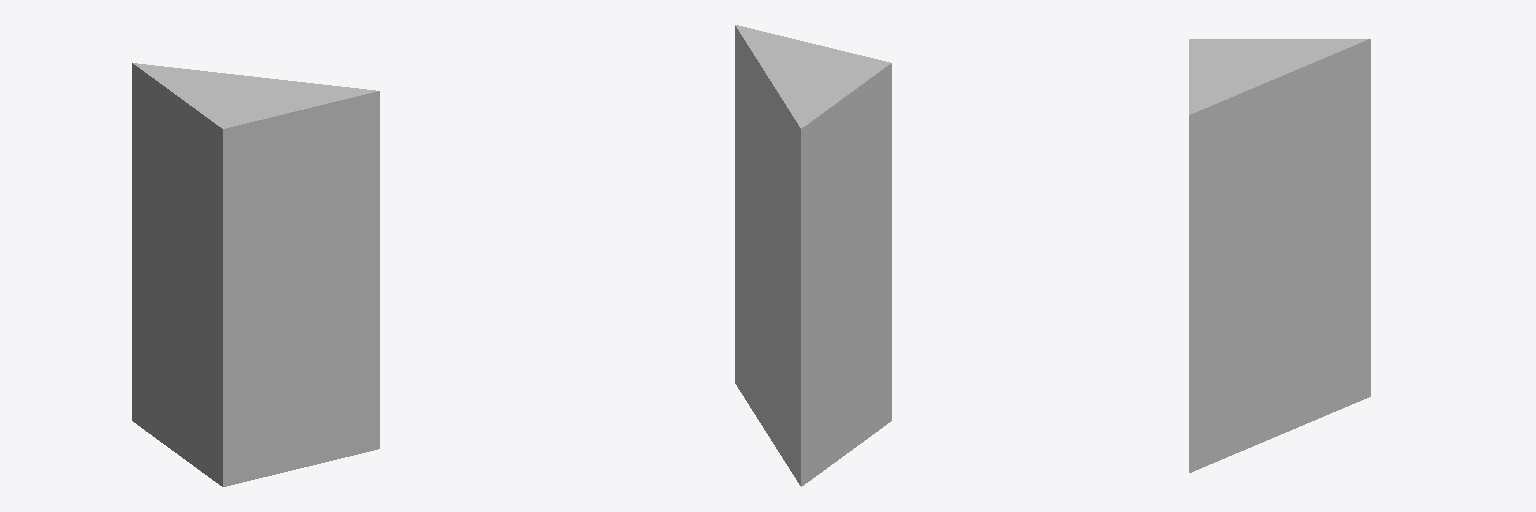
The model's file is cliffBrown_cornerMid.obj.
3 renders of one model, left to right at view 1: azimuth 30°, elevation 25°; view 2: azimuth 150°, elevation 25°; view 3: azimuth 270°, elevation 25°, orthographic.
Visible parts, largest first — view 1: cliffBrown_cornerMid; view 2: cliffBrown_cornerMid; view 3: cliffBrown_cornerMid.
Part boxes in pixels (x1,y1,x2,y2): cliffBrown_cornerMid: (132,63,379,486); cliffBrown_cornerMid: (735,25,891,486); cliffBrown_cornerMid: (1189,39,1370,472).
Bounding box in the file's own units: 4.58 × 10 × 4.58.